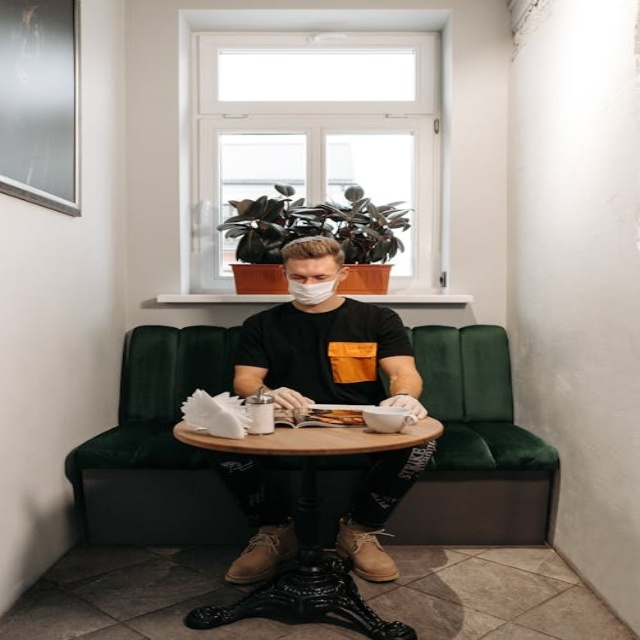Guantes: (378, 393, 427, 420), (265, 386, 317, 410)
Mascara: (285, 274, 340, 305)
Sin_gafas: (284, 269, 343, 284)
